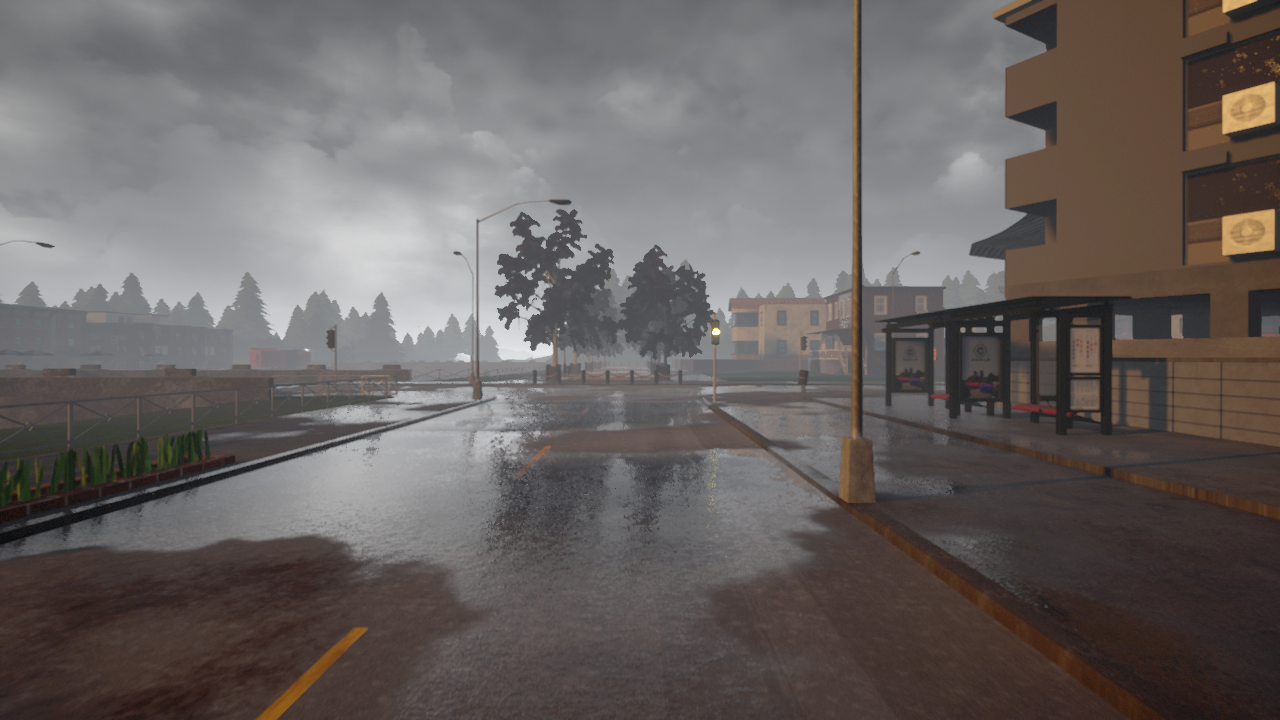yellow: (710, 319, 720, 346)
